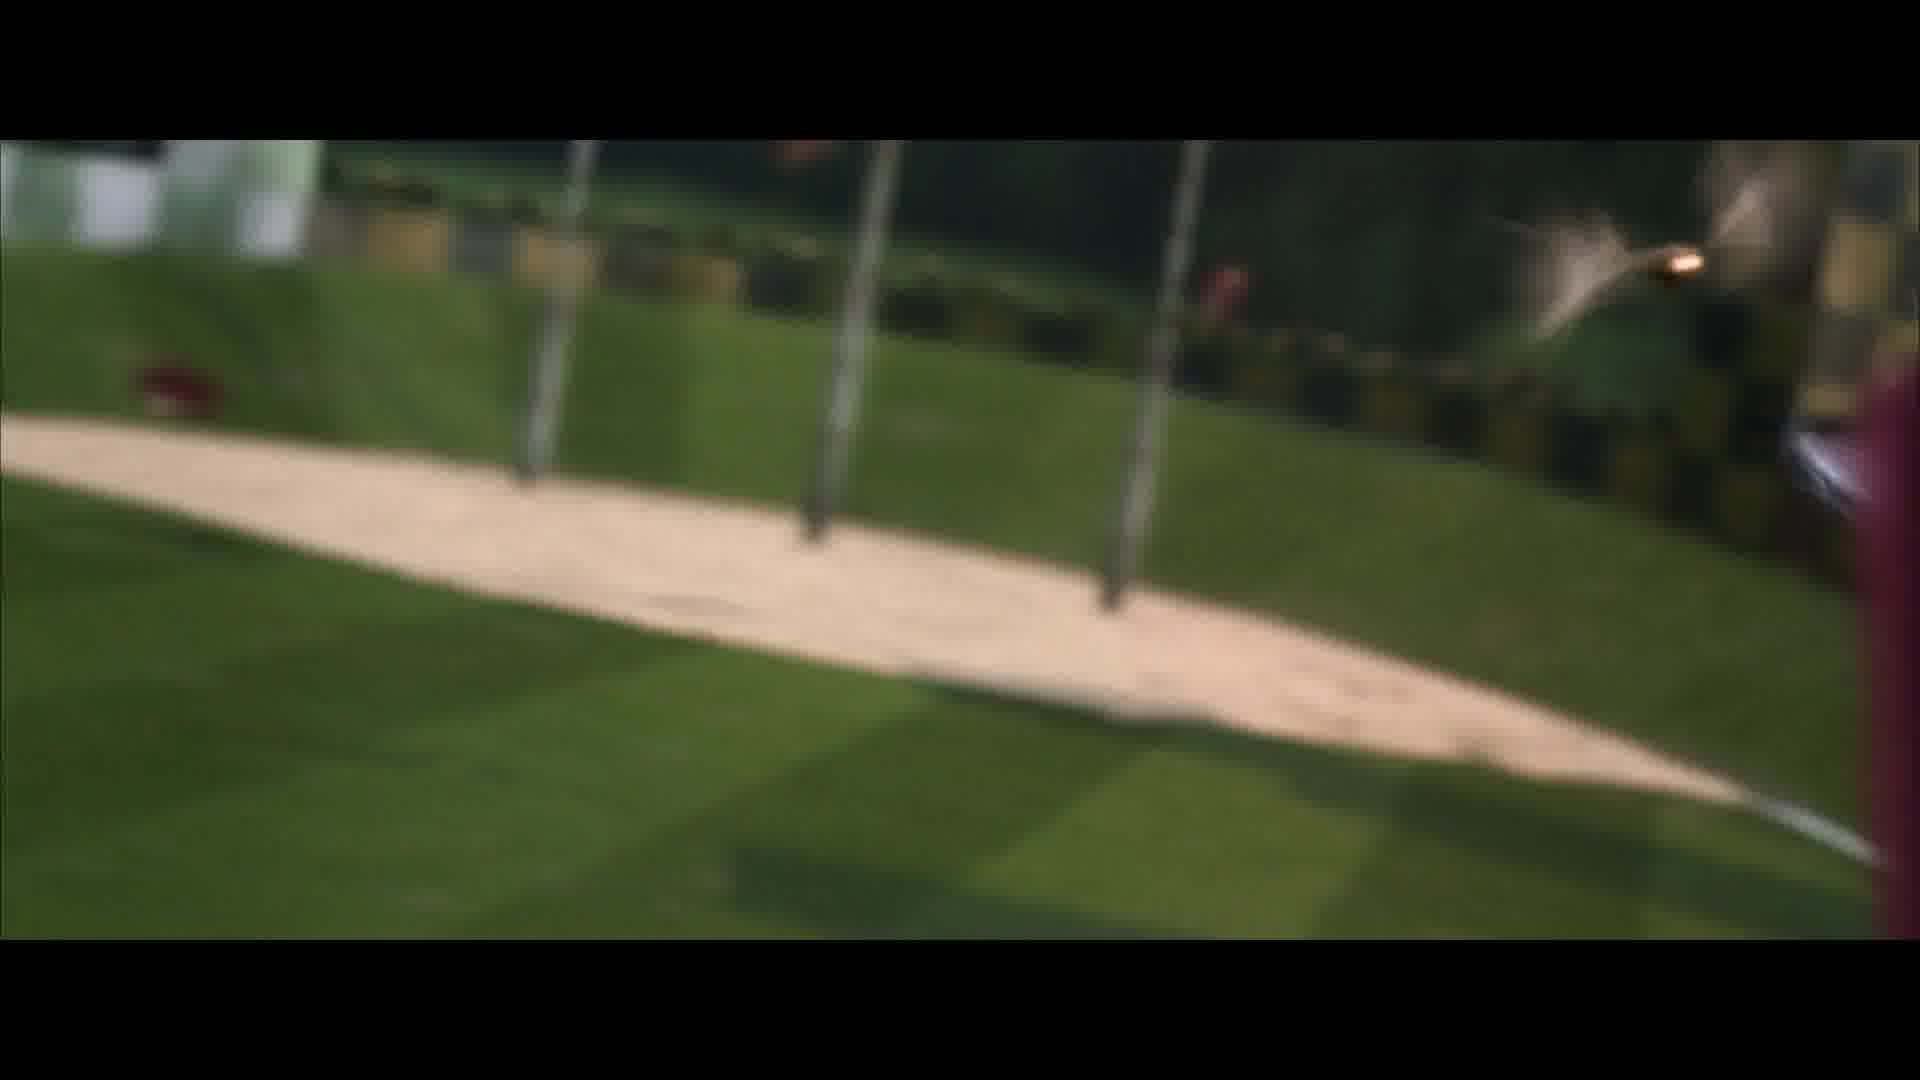snitch: (1639, 241, 1708, 303)
